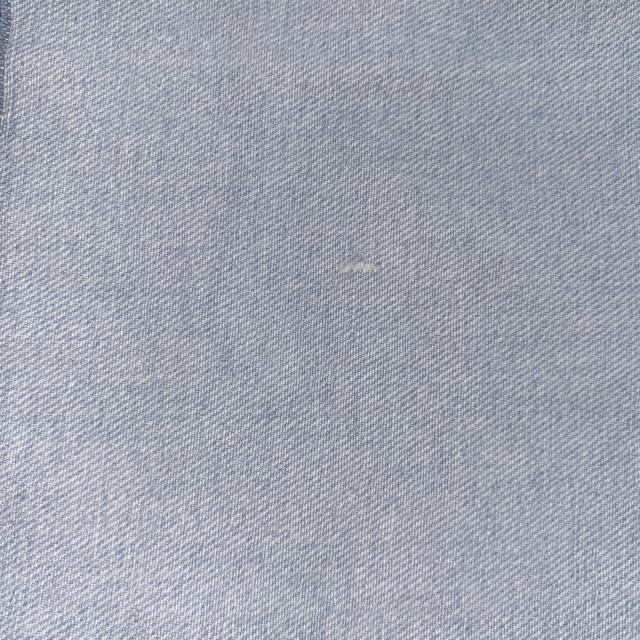Knot: (338, 262, 382, 274)
